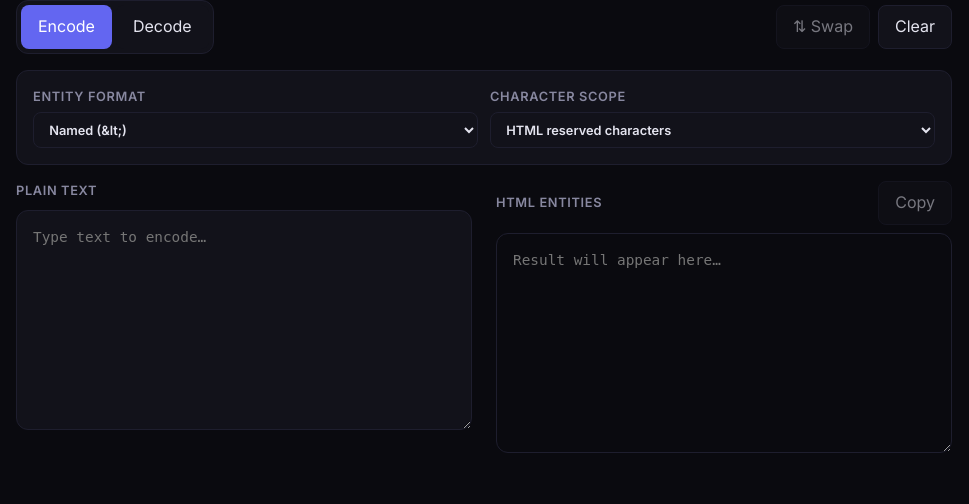
Test: HtmlEntityTool actions › copies output and reports success feedback
The image size is (969, 504).
Type "<" into the text box labelled "Plain text". click: [244, 320]
box: [16,210,472,430]
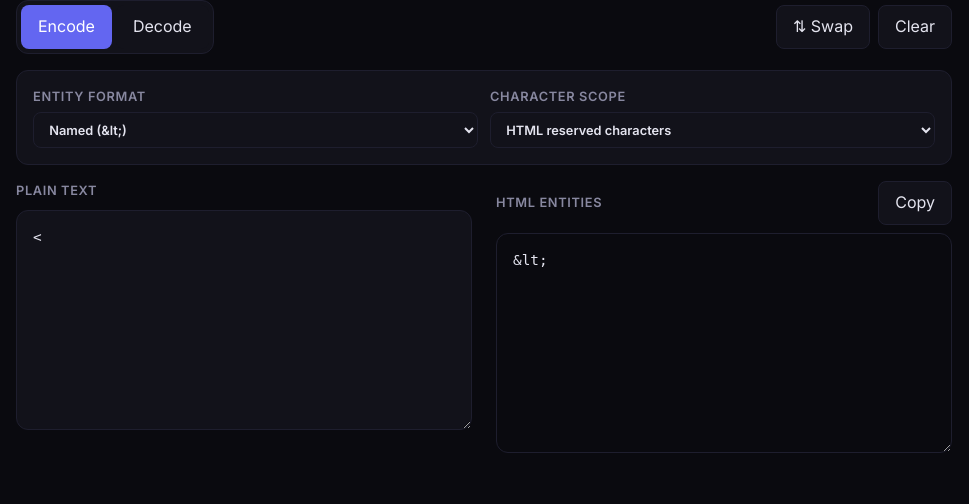
Click the button "Copy". click: [915, 203]
box: [878,182,952,225]
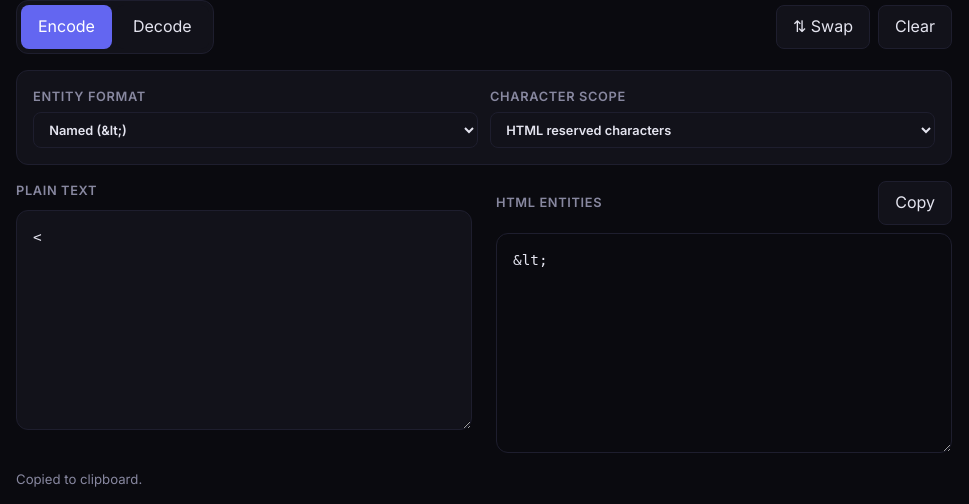
Check: the message reads "Copied to clipboard.", box [16,471,142,487]
